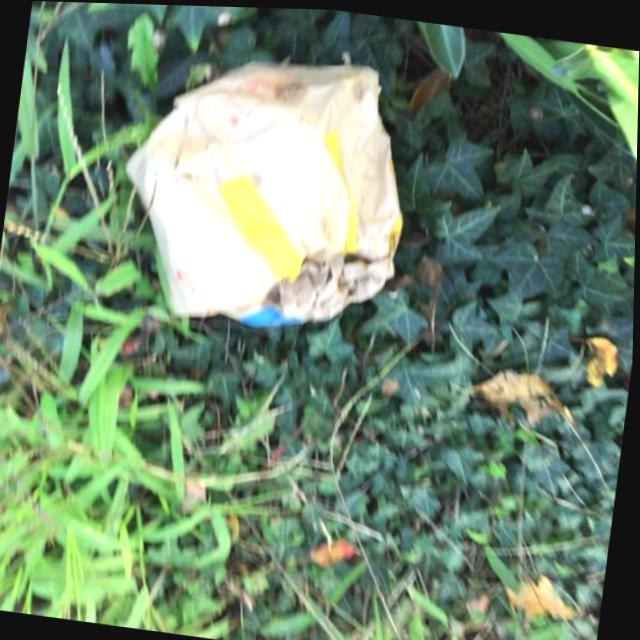Paper: (106, 29, 427, 347)
